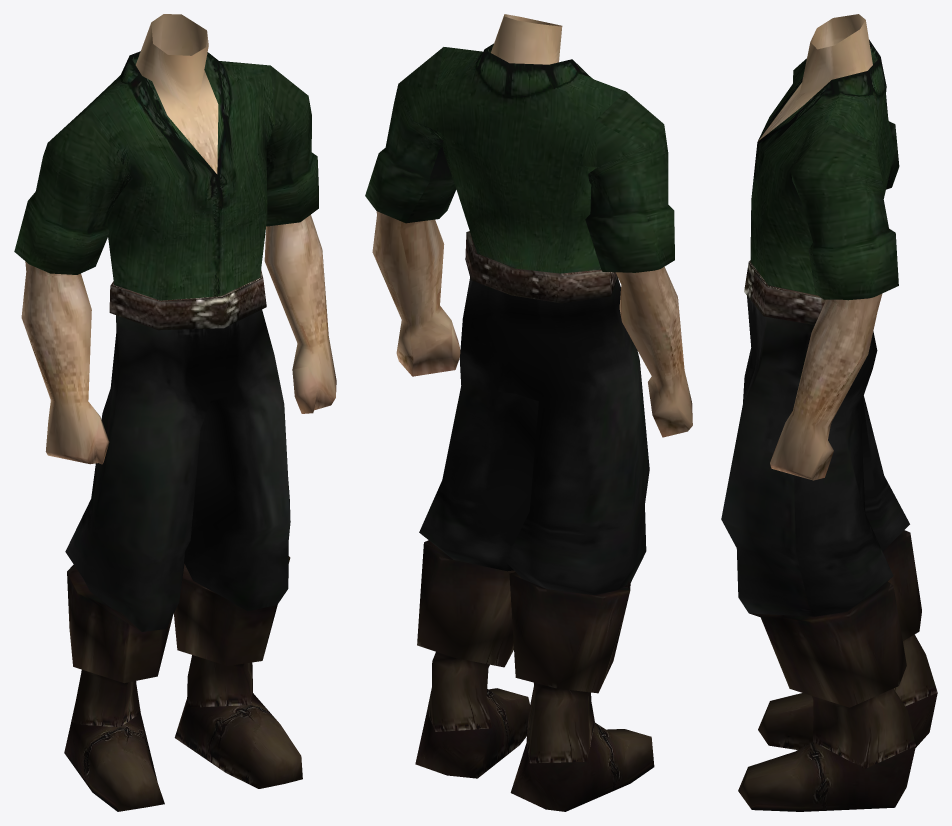
File: KOSZULA_ZIELONA.glb
The picture shows the model from 3 angles, left to right: view 1: azimuth 30°, elevation 25°; view 2: azimuth 150°, elevation 25°; view 3: azimuth 270°, elevation 25°; orthographic projection.
Parts seen in each view (by area): view 1: KOSZULA_ZIELONA; view 2: KOSZULA_ZIELONA; view 3: KOSZULA_ZIELONA.
Part boxes in pixels (x1=…): KOSZULA_ZIELONA: x1=14, y1=14, x2=336, y2=811; KOSZULA_ZIELONA: x1=365, y1=14, x2=692, y2=811; KOSZULA_ZIELONA: x1=721, y1=14, x2=937, y2=811.
Size of the model in its own units: 0.6885 by 1.68 by 0.4402.
Materials: 2 (2 with a texture image).
